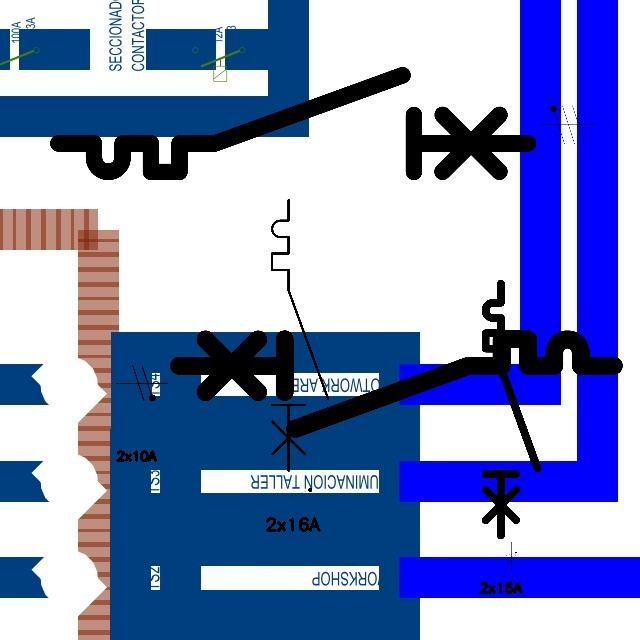interruptor_termomagnetico: (46, 63, 540, 184), (167, 328, 624, 440), (265, 193, 334, 478), (479, 277, 544, 542)
